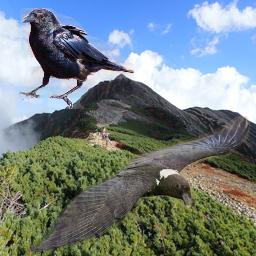Crow: (26, 116, 250, 256), (19, 8, 134, 109)
